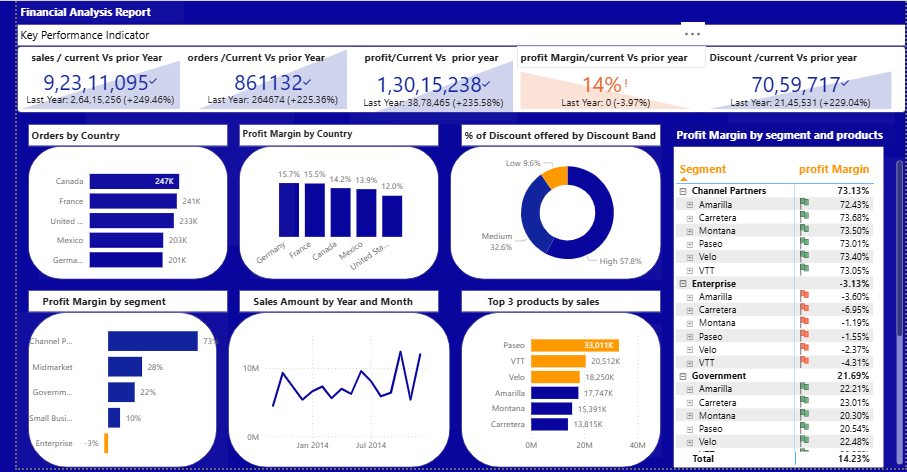

This screenshot's page, from the dashboard's own definition file:
{"tool":"powerbi","page":{"name":"Page 2","canvas":[1280,720],"ordinal":1},"visuals":[{"type":"shape","box":[0,80,1280,32],"z":0},{"type":"shape","box":[0,112,1280,96],"z":1000},{"type":"shape","box":[304,496,320,224],"z":2000},{"type":"shape","box":[16,256,288,192],"z":3000},{"type":"shape","box":[16,496,272,224],"z":4000},{"type":"shape","box":[640,496,288,224],"z":5000},{"type":"shape","box":[320,256,288,192],"z":6000},{"type":"shape","box":[624,256,304,192],"z":7000},{"type":"shape","box":[16,464,288,32],"z":8000},{"type":"shape","box":[320,464,288,32],"z":9000},{"type":"shape","box":[640,464,288,32],"z":10000},{"type":"shape","box":[320,224,288,32],"z":11000},{"type":"shape","box":[16,224,288,32],"z":12000},{"type":"shape","box":[640,224,288,32],"z":13000},{"type":"textbox","box":[0,0,224,48],"z":14000},{"type":"textbox","box":[1024,192,240,32],"z":15000},{"type":"textbox","box":[0,48,240,32],"z":16000},{"type":"textbox","box":[0,80,208,32],"z":17000},{"type":"kpi","fields":{"Indicator":["Analysis.Sales Amount"],"TrendLine":["Date Table.year"],"Goal":["Analysis.sales Amount LY"]},"box":[0,128,240,80],"z":18000},{"type":"textbox","box":[16,112,224,32],"z":19000},{"type":"kpi","fields":{"TrendLine":["Date Table.year"],"Indicator":["Analysis.orders"],"Goal":["Analysis.orders LY"]},"box":[256,112,224,96],"z":20000},{"type":"kpi","fields":{"TrendLine":["Date Table.year"],"Indicator":["Analysis.profit"],"Goal":["Analysis.Profit LY"]},"box":[480,128,240,96],"z":21000},{"type":"kpi","fields":{"TrendLine":["Date Table.year"],"Indicator":["Analysis.Discount offered"],"Goal":["Analysis.Discount offered LY"]},"box":[992,144,272,64],"z":22000},{"type":"kpi","fields":{"TrendLine":["Date Table.year"],"Indicator":["Analysis.profit Margin"],"Goal":["Analysis.Profit Margin LY"]},"box":[720,144,256,64],"z":23000},{"type":"textbox","box":[240,112,240,32],"z":24000},{"type":"textbox","box":[496,112,224,32],"z":25000},{"type":"textbox","box":[720,112,272,32],"z":26000},{"type":"textbox","box":[992,112,288,32],"z":27000},{"type":"clusteredBarChart","fields":{"Category":["Financials.Country"],"Y":["Analysis.orders"]},"box":[32,272,240,176],"z":28000},{"type":"columnChart","fields":{"Y":["Analysis.profit Margin"],"Category":["Financials.Country"]},"box":[336,272,240,176],"z":29000},{"type":"donutChart","fields":{"Category":["Financials.Discount Band"],"Y":["Analysis.Discount offered"]},"box":[656,256,272,192],"z":30000},{"type":"textbox","box":[16,224,288,32],"z":31000},{"type":"textbox","box":[320,224,224,32],"z":32000},{"type":"textbox","box":[32,464,240,32],"z":33000},{"type":"textbox","box":[640,224,288,32],"z":34000},{"type":"barChart","fields":{"Category":["Financials.Segment"],"Y":["Analysis.profit Margin"]},"box":[0,496,304,224],"z":35000},{"type":"lineChart","fields":{"Category":["Date Table.Date.Variation.Date Hierarchy.Year","Date Table.Date.Variation.Date Hierarchy.Month"],"Y":["Analysis.Sales Amount"]},"box":[320,512,288,192],"z":36000},{"type":"barChart","fields":{"Y":["Analysis.Sales Amount"],"Category":["Financials.Product"]},"box":[672,512,256,192],"z":37000},{"type":"textbox","box":[336,464,272,32],"z":38000},{"type":"textbox","box":[672,464,224,32],"z":39000},{"type":"shape","box":[944,256,304,464],"z":40000},{"type":"pivotTable","fields":{"Rows":["Financials.Segment","Financials.Product","Date Table.Date.Variation.Date Hierarchy.Year","Date Table.Date.Variation.Date Hierarchy.Quarter","Date Table.Date.Variation.Date Hierarchy.Month","Date Table.Date.Variation.Date Hierarchy.Day"],"Values":["Analysis.profit Margin"]},"box":[944,272,336,448],"z":41000},{"type":"textbox","box":[100,100,300,300],"z":42000},{"type":"textbox","box":[944,224,320,32],"z":43000}]}

Visuals, with their boxes in screenshot pixels (x1, y1, x2, y2):
shape: bbox(14, 25, 904, 47)
shape: bbox(14, 47, 904, 114)
shape: bbox(226, 314, 448, 470)
shape: bbox(25, 147, 226, 281)
shape: bbox(25, 314, 214, 470)
shape: bbox(459, 314, 660, 470)
shape: bbox(237, 147, 437, 281)
shape: bbox(448, 147, 660, 281)
shape: bbox(25, 292, 226, 314)
shape: bbox(237, 292, 437, 314)
shape: bbox(459, 292, 660, 314)
shape: bbox(237, 125, 437, 147)
shape: bbox(25, 125, 226, 147)
shape: bbox(459, 125, 660, 147)
textbox: bbox(14, 0, 170, 3)
textbox: bbox(726, 103, 893, 125)
textbox: bbox(14, 3, 181, 25)
textbox: bbox(14, 25, 159, 47)
kpi - Analysis.Sales Amount x Date Table.year: bbox(14, 58, 181, 114)
textbox: bbox(25, 47, 181, 69)
kpi - Date Table.year x Analysis.orders: bbox(192, 47, 348, 114)
kpi - Date Table.year x Analysis.profit: bbox(348, 58, 515, 125)
kpi - Date Table.year x Analysis.Discount offered: bbox(704, 69, 893, 114)
kpi - Date Table.year x Analysis.profit Margin: bbox(515, 69, 693, 114)
textbox: bbox(181, 47, 348, 69)
textbox: bbox(359, 47, 515, 69)
textbox: bbox(515, 47, 704, 69)
textbox: bbox(704, 47, 904, 69)
clusteredBarChart - Financials.Country x Analysis.orders: bbox(36, 158, 203, 281)
columnChart - Analysis.profit Margin x Financials.Country: bbox(248, 158, 415, 281)
donutChart - Financials.Discount Band x Analysis.Discount offered: bbox(470, 147, 660, 281)
textbox: bbox(25, 125, 226, 147)
textbox: bbox(237, 125, 393, 147)
textbox: bbox(36, 292, 203, 314)
textbox: bbox(459, 125, 660, 147)
barChart - Financials.Segment x Analysis.profit Margin: bbox(14, 314, 226, 470)
lineChart - Date Table.Date.Variation.Date Hierarchy.Year x Date Table.Date.Variation.Date Hierarchy.Month: bbox(237, 325, 437, 459)
barChart - Analysis.Sales Amount x Financials.Product: bbox(482, 325, 660, 459)
textbox: bbox(248, 292, 437, 314)
textbox: bbox(482, 292, 637, 314)
shape: bbox(671, 147, 882, 470)
pivotTable - Financials.Segment x Financials.Product: bbox(671, 158, 904, 470)
textbox: bbox(84, 39, 292, 247)
textbox: bbox(671, 125, 893, 147)
